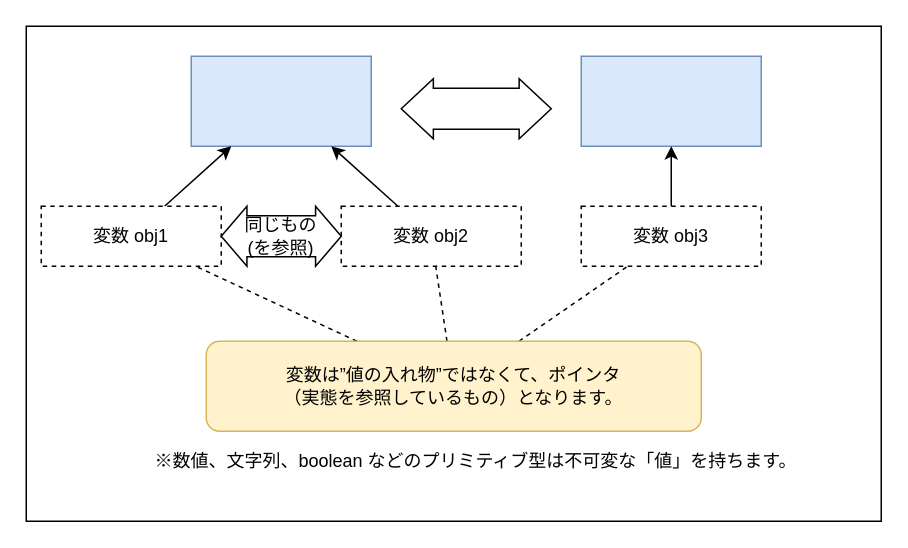
The diagram is 908 pixels wide and 548 high, and some of its shapes have lost their labels. The box of each missing label's shape, as (x1, y1, x2, y2) in pixels:
実態オブジェクト name="ricoh02": (580, 55, 761, 146)
実態オブジェクト1 name="ricoh02": (190, 55, 371, 146)
違うもの: (400, 77, 551, 139)
